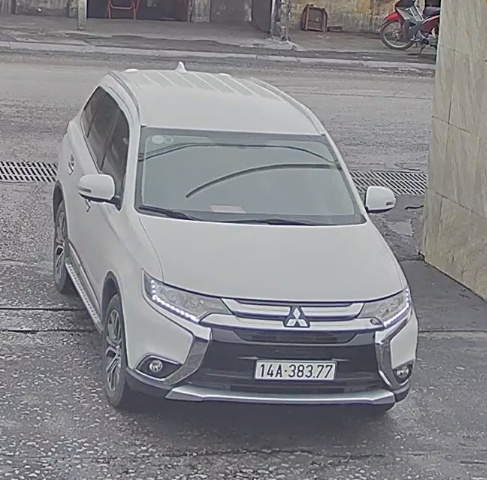vehicle plate: (247, 354, 345, 387)
